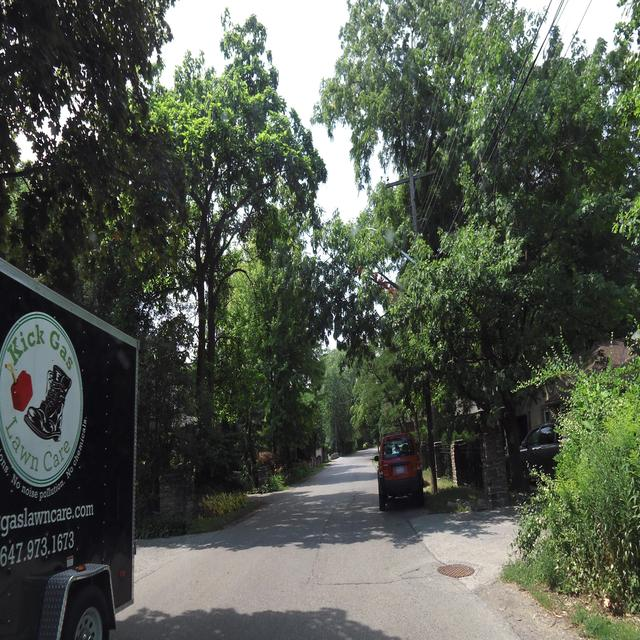Car: (374, 429, 423, 510), (505, 422, 557, 484)
Manhole: (437, 563, 474, 578)
